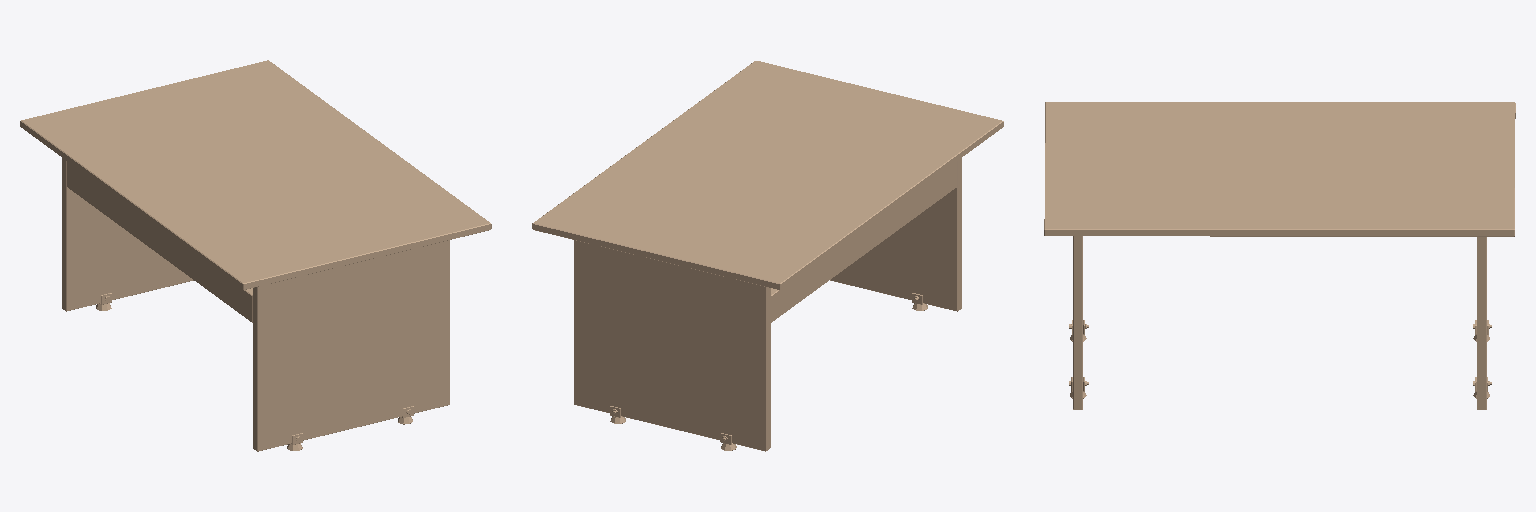
The robot description file, URDF, robot "table":
<?xml version="1.0"?>
<!--
Table object URDF with mesh
Size: 0.8m x 1.2m x 0.05m (W x D x H)
-->
<robot name="table">
  <link name="base_link">
    <visual>
      <origin xyz="0 0 0" rpy="0 0 1.57"/>
      <geometry>
        <mesh filename="../meshes/table.stl" scale="1 1 0.8"/>
      </geometry>
      <material name="table_wood">
        <color rgba="0.8 0.7 0.6 1.0"/>
      </material>
    </visual>
    <collision>
      <origin xyz="0 0 0" rpy="0 0 1.57"/>
      <geometry>
        <box size="0.8 1.2 0.05"/>
      </geometry>
    </collision>
    <inertial>
      <origin xyz="0 0 0" rpy="0 0 0"/>
      <mass value="5.0"/>  <!-- 5kg table -->
      <inertia ixx="0.604" ixy="0" ixz="0" iyy="0.271" iyz="0" izz="0.875"/>
    </inertial>
  </link>
</robot>

--- Render facts (derived) ---
3 views of the same robot in one strip: view 1: azimuth 30°, elevation 25°; view 2: azimuth 150°, elevation 25°; view 3: azimuth 270°, elevation 25° (orthographic).
Robot: table — 1 links, 0 joints (none); root link base_link; default pose: every joint at zero.
Visible links, largest first — view 1: base_link; view 2: base_link; view 3: base_link.
Boxes of the visible links, left/top/right/bottom form: base_link: left=20, top=60, right=491, bottom=451; base_link: left=532, top=61, right=1003, bottom=451; base_link: left=1044, top=102, right=1515, bottom=409.
Bounding box of the posed robot: 0.9011 × 1.4 × 0.6664 m (x, y, z).
1 mesh visuals loaded from 1 distinct referenced files (1 binary STL).